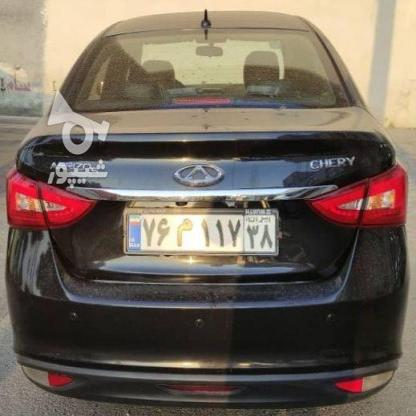licence: (121, 209, 281, 256)
